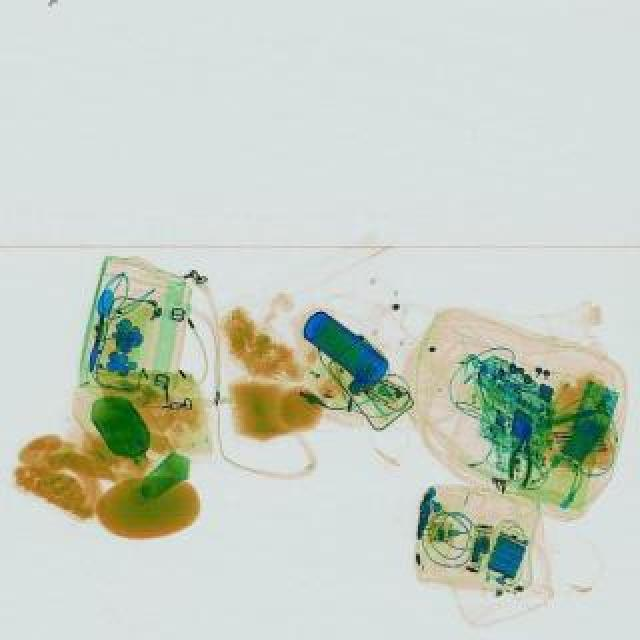wrench: (508, 422, 540, 488)
